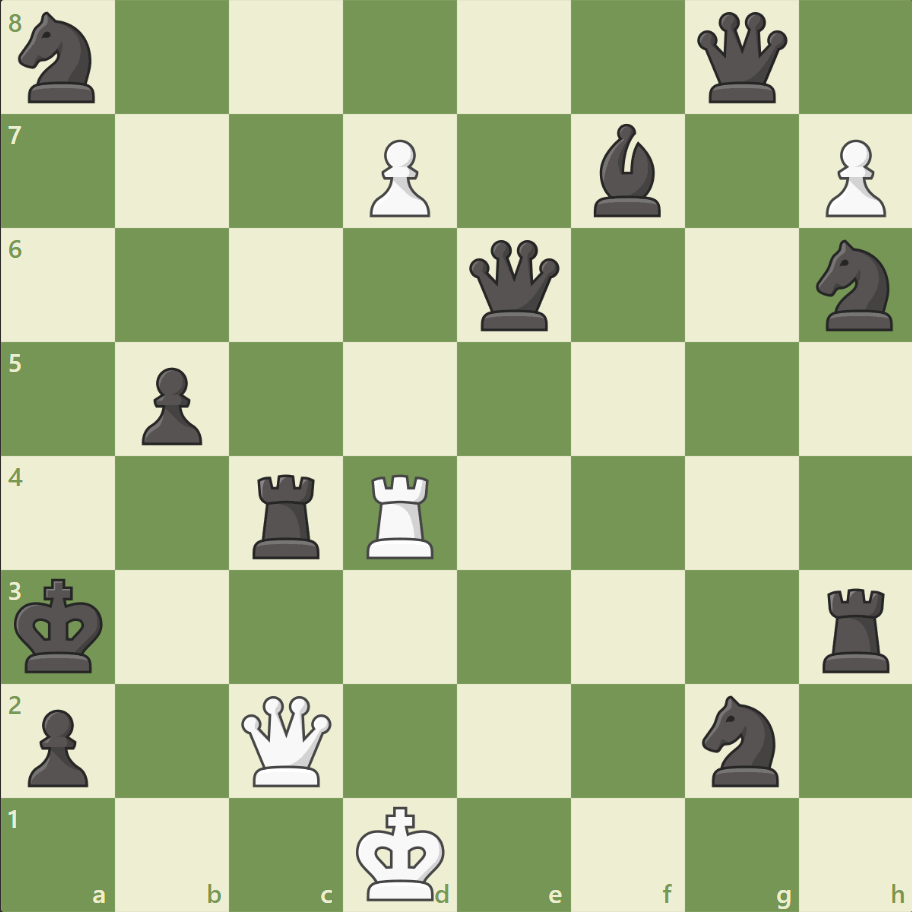K: (351, 798, 451, 906)
P: (361, 132, 435, 223), (815, 132, 889, 223)
Q: (237, 690, 336, 789)
R: (360, 466, 442, 563)
b: (585, 120, 669, 222)
k: (11, 571, 111, 679)
n: (11, 7, 108, 110), (806, 234, 903, 337), (692, 688, 789, 791)
p: (133, 359, 208, 450), (20, 700, 95, 791)
q: (691, 9, 790, 108), (464, 236, 563, 335)
r: (246, 466, 329, 563), (814, 579, 897, 676)
